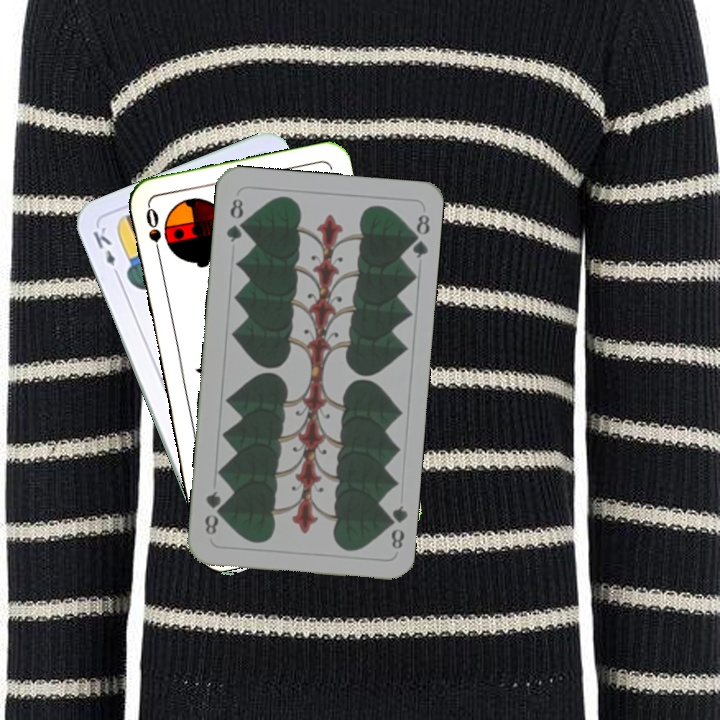EK: (88, 223, 123, 280)
G8: (381, 501, 410, 551), (222, 194, 247, 245)
SO: (142, 203, 164, 261)
